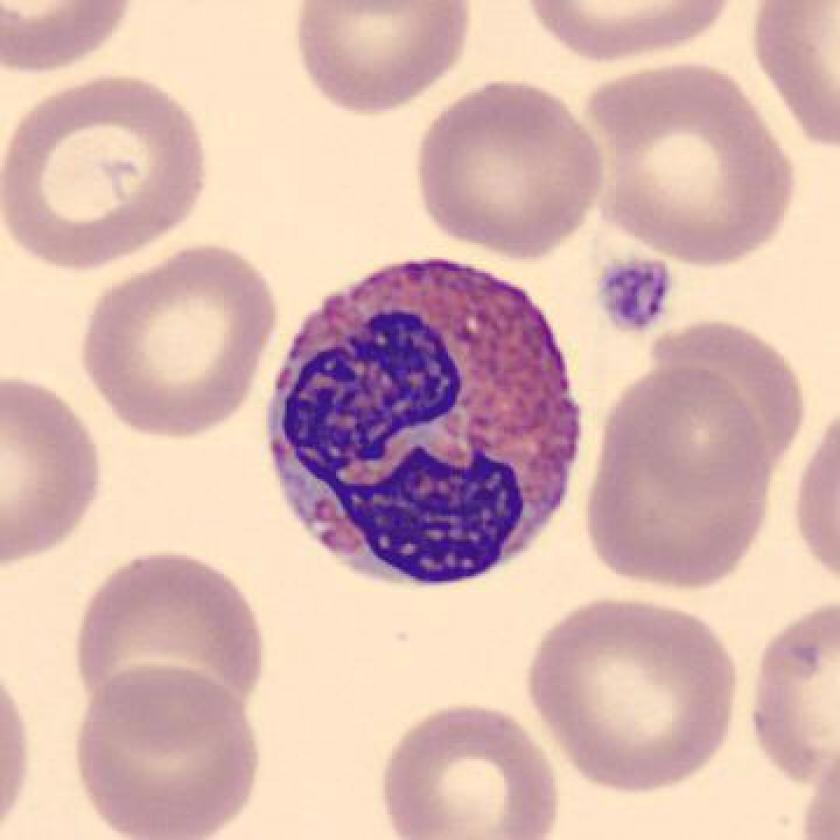eosinophil: (253, 247, 587, 608)
